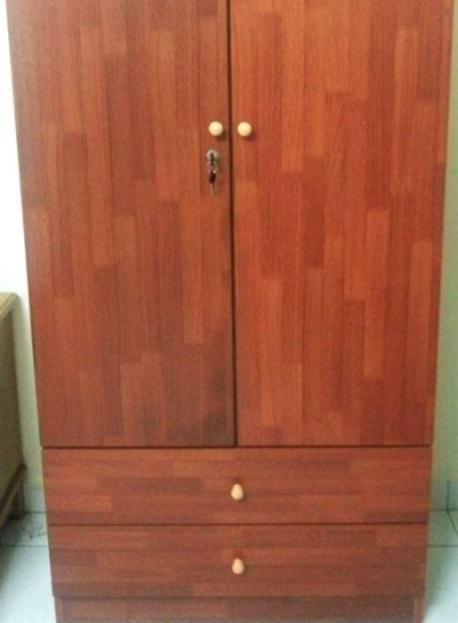Armario: (4, 12, 449, 616)
